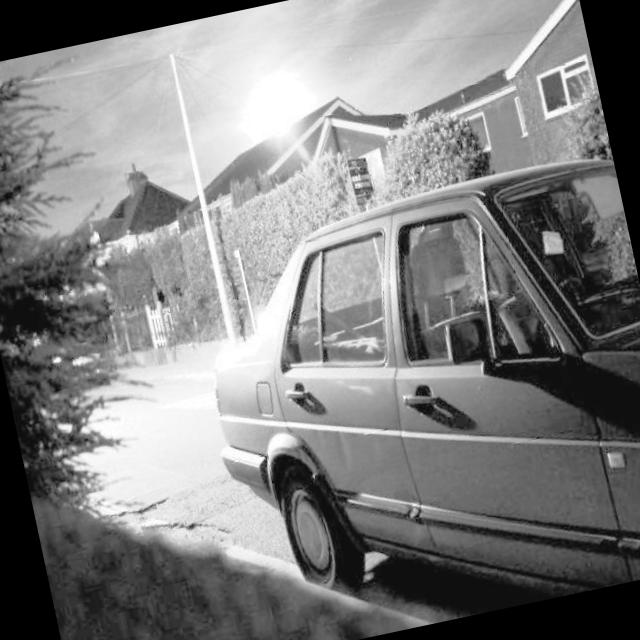Car: (156, 143, 640, 640)
